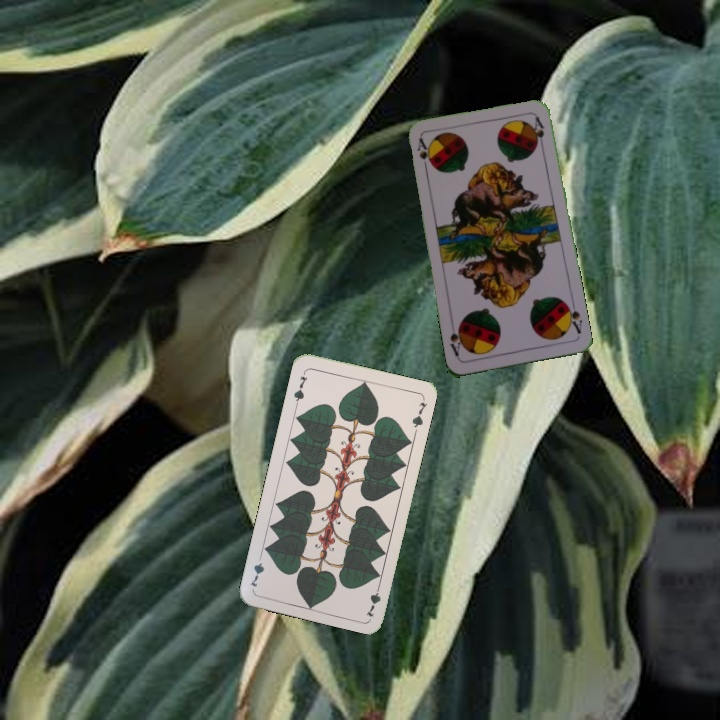G7: (362, 579, 383, 619), (289, 372, 310, 407)
SA: (413, 134, 434, 175), (562, 299, 585, 336)
